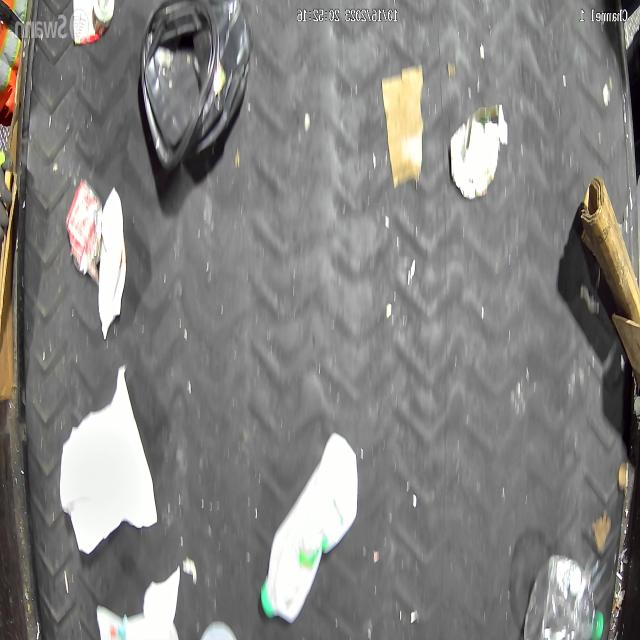can: (72, 0, 116, 46)
milk_jug: (260, 434, 358, 622)
non_white_jug: (138, 0, 250, 174)
plastic_bottle: (522, 551, 605, 640)
